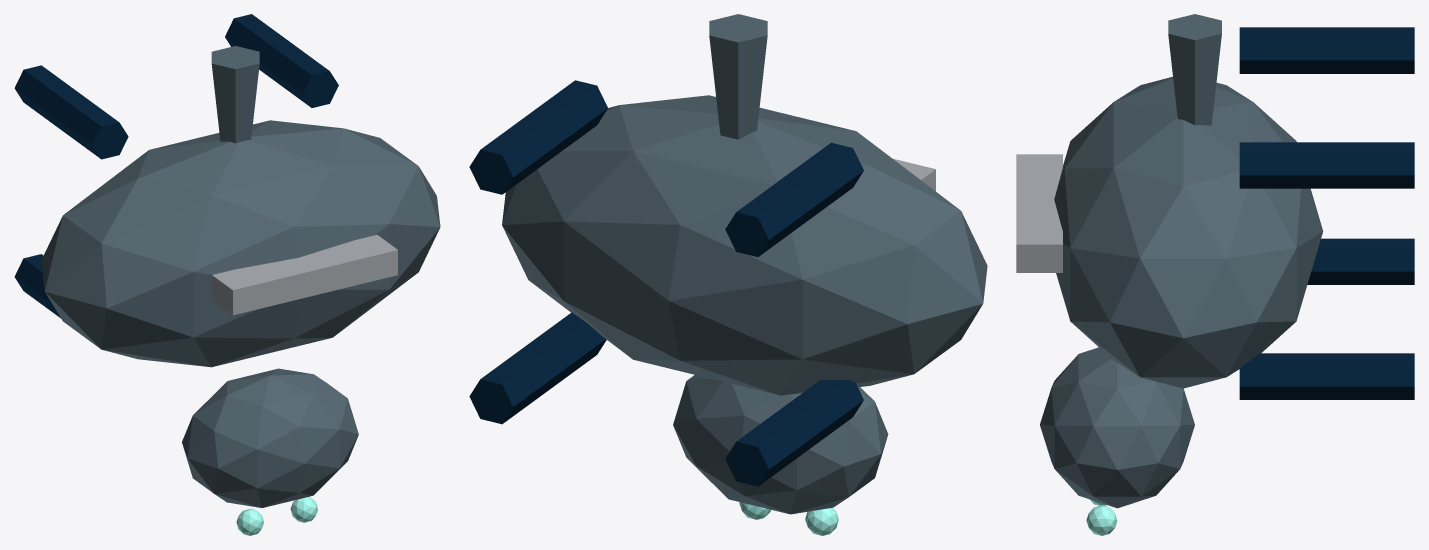
File: 02_event_elite_variant.glb
3 views of the same model, side by side, from view 1: azimuth 30°, elevation 25°; view 2: azimuth 150°, elevation 25°; view 3: azimuth 270°, elevation 25° (orthographic). The views are drawn at different scales.
Parts seen in each view (by area): view 1: creature_body, creature_head, mechanical_spine, leg_bl, leg_br, tail, leg_fl, eye_l, eye_r; view 2: creature_body, creature_head, leg_bl, leg_br, leg_fl, leg_fr, tail, eye_l; view 3: creature_body, creature_head, leg_bl, leg_br, leg_fr, mechanical_spine, tail, leg_fl, eye_r.
Part boxes in pixels (x1,y1,x2,y2): creature_body: (41,120,440,367); creature_head: (182,368,358,507); mechanical_spine: (212,235,397,315); leg_bl: (14,65,128,159); leg_br: (225,14,338,107); tail: (211,46,259,143); leg_fl: (14,254,60,318); eye_l: (236,508,263,535); eye_r: (290,496,318,522); creature_body: (502,95,987,395); creature_head: (673,375,888,514); leg_bl: (725,142,863,256); leg_br: (469,80,607,194); leg_fl: (725,380,863,486); leg_fr: (469,312,606,424); tail: (709,14,767,139); eye_l: (805,507,838,535); creature_body: (1054,76,1323,388); creature_head: (1040,347,1194,508); leg_bl: (1239,27,1414,73); leg_br: (1239,142,1414,188); leg_fr: (1239,353,1414,399); mechanical_spine: (1016,154,1062,272); tail: (1168,14,1221,125); leg_fl: (1307,238,1414,284); eye_r: (1086,505,1117,535).
Bounding box in the file's own units: 1.3 × 1.4 × 1.03.
